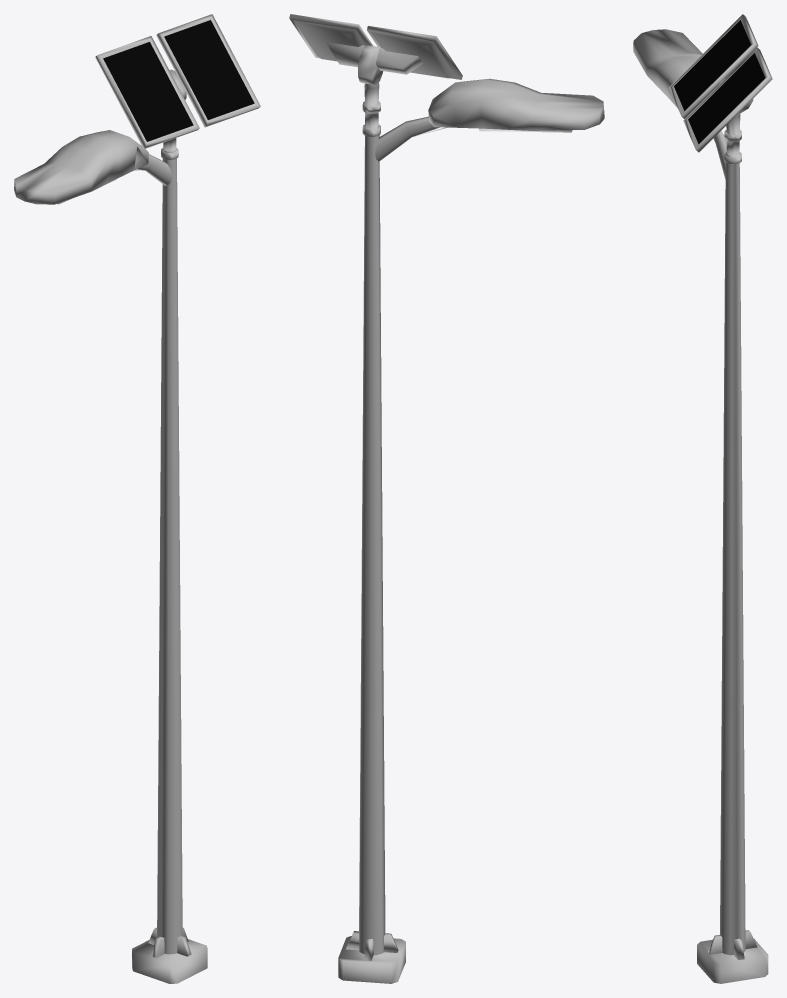
Rendered from nc_prop_lamp_solar_01.fbx.
The picture shows the model from 3 angles, left to right: view 1: azimuth 30°, elevation 25°; view 2: azimuth 150°, elevation 25°; view 3: azimuth 270°, elevation 25°; orthographic projection. The views are drawn at different scales.
Visible parts, largest first — view 1: nc_prop_lamp_solar_01_LOD0; view 2: nc_prop_lamp_solar_01_LOD0; view 3: nc_prop_lamp_solar_01_LOD0.
Part boxes in pixels (x1,y1,x2,y2): nc_prop_lamp_solar_01_LOD0: (14,14,260,983); nc_prop_lamp_solar_01_LOD0: (289,14,604,983); nc_prop_lamp_solar_01_LOD0: (633,14,772,983).
Size of what is drawn, in the model's own units: 1.05 by 3.57 by 0.489.
1 material, 1 textured.
